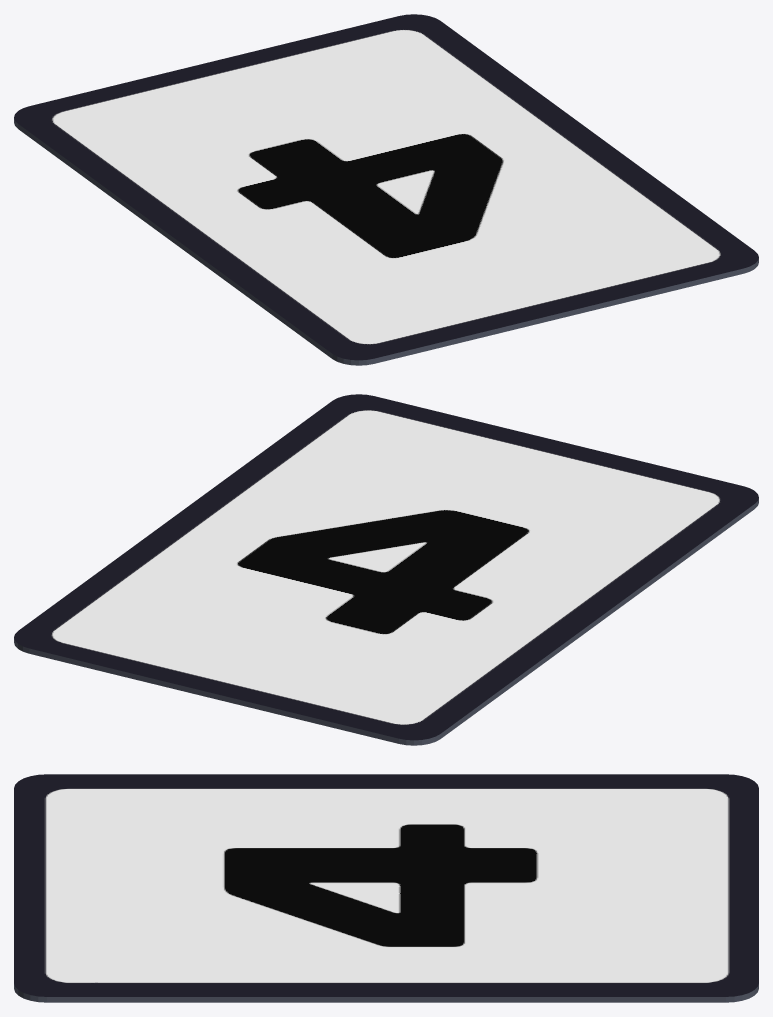
The picture shows the model from 3 angles, top to bottom: view 1: azimuth 30°, elevation 25°; view 2: azimuth 150°, elevation 25°; view 3: azimuth 270°, elevation 25°; orthographic projection. The views are drawn at different scales.
Visible parts, largest first — view 1: 立方体; view 2: 立方体; view 3: 立方体.
Boxes of the visible parts, bbox=[...] form: 立方体: bbox=[14, 14, 758, 365]; 立方体: bbox=[14, 394, 758, 745]; 立方体: bbox=[14, 774, 758, 1002].
Size of the model in its own units: 8.4 by 0.1 by 11.88.
Materials: 3 (2 with a texture image).
